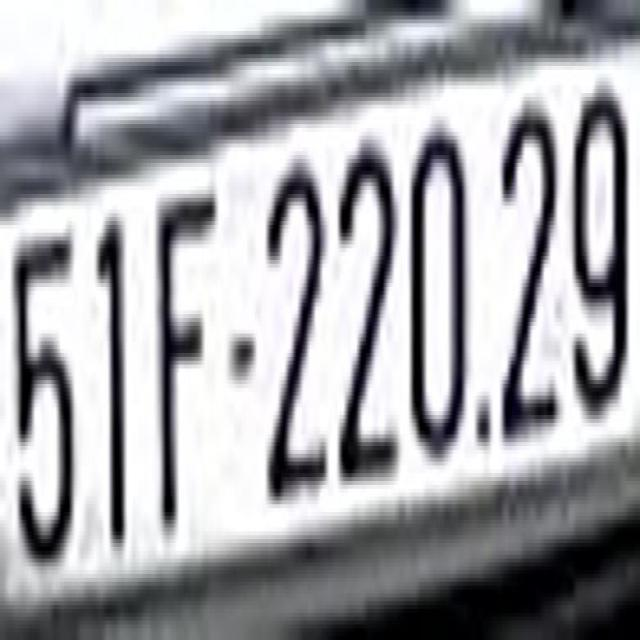0: (408, 128, 468, 481)
1: (94, 213, 129, 562)
2: (334, 143, 404, 481), (260, 167, 330, 492), (497, 109, 557, 438)
5: (11, 229, 78, 597)
9: (568, 78, 628, 430)
F: (155, 178, 218, 547)
